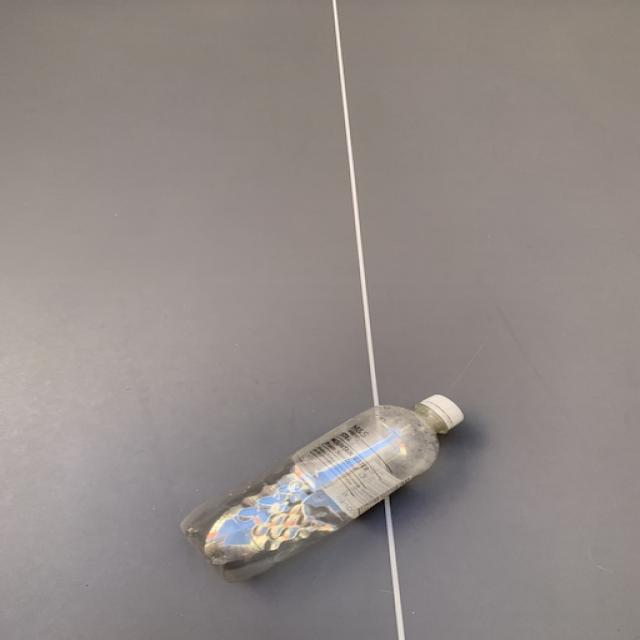Waste: (181, 397, 464, 582)
